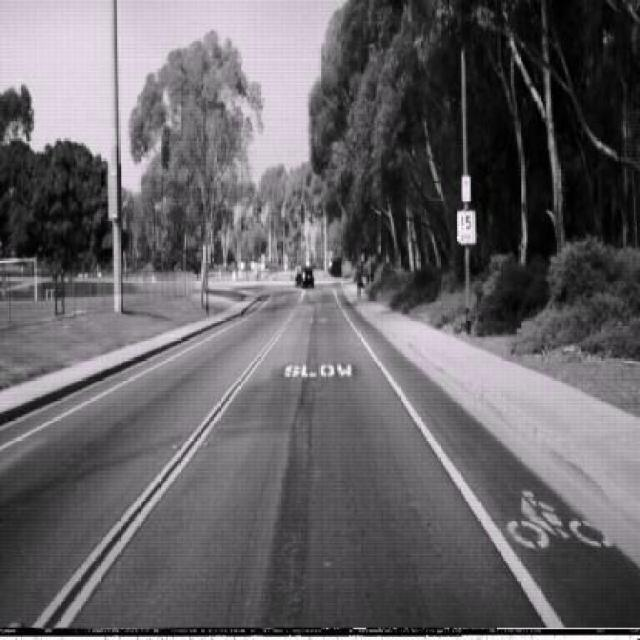speedLimit15: (458, 209, 477, 244)
